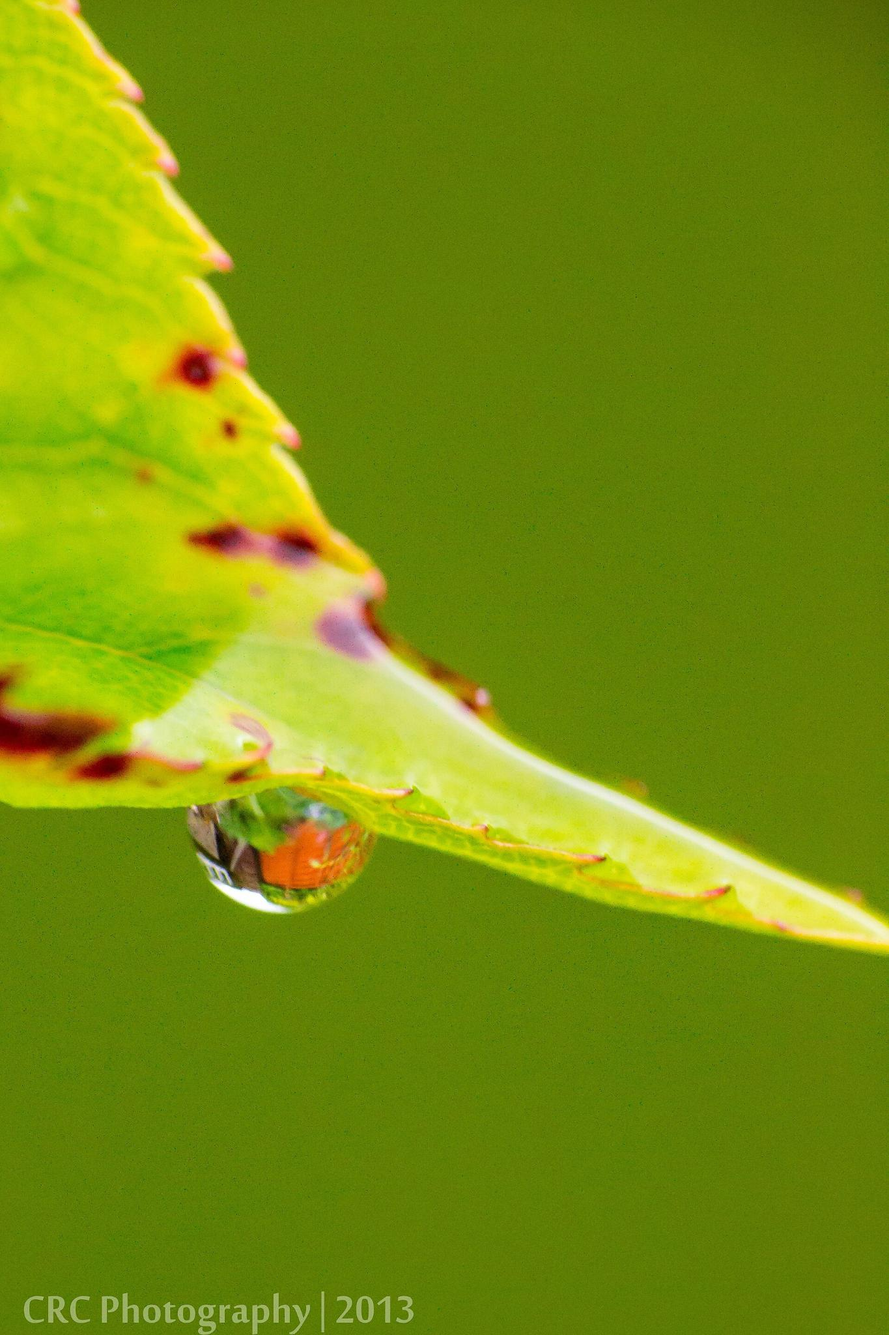water drop: (176, 776, 372, 912)
